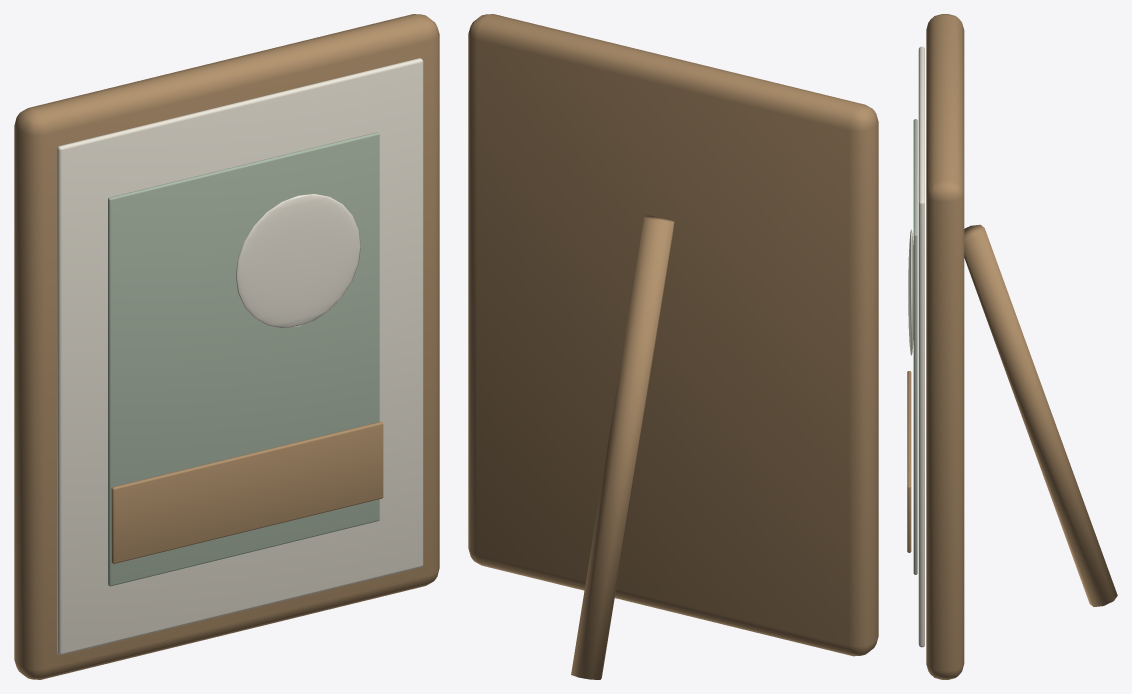
The model's file is picture_frame.glb.
The picture shows the model from 3 angles, left to right: view 1: azimuth 30°, elevation 25°; view 2: azimuth 150°, elevation 25°; view 3: azimuth 270°, elevation 25°; orthographic projection. The views are drawn at different scales.
Visible parts, largest first — view 1: picture_frame__mat, picture_frame__body, picture_frame__accent; view 2: picture_frame__body; view 3: picture_frame__body, picture_frame__mat, picture_frame__accent.
Part boxes in pixels (box(x1,y1,x2,y2)): picture_frame__mat: box(57, 58, 423, 654); picture_frame__body: box(14, 14, 439, 679); picture_frame__accent: box(108, 132, 379, 586); picture_frame__body: box(468, 14, 878, 679); picture_frame__body: box(907, 14, 1117, 679); picture_frame__mat: box(908, 46, 924, 647); picture_frame__accent: box(913, 119, 917, 574).
Bounding box in the file's own units: 0.2 × 0.2642 × 0.0997.
